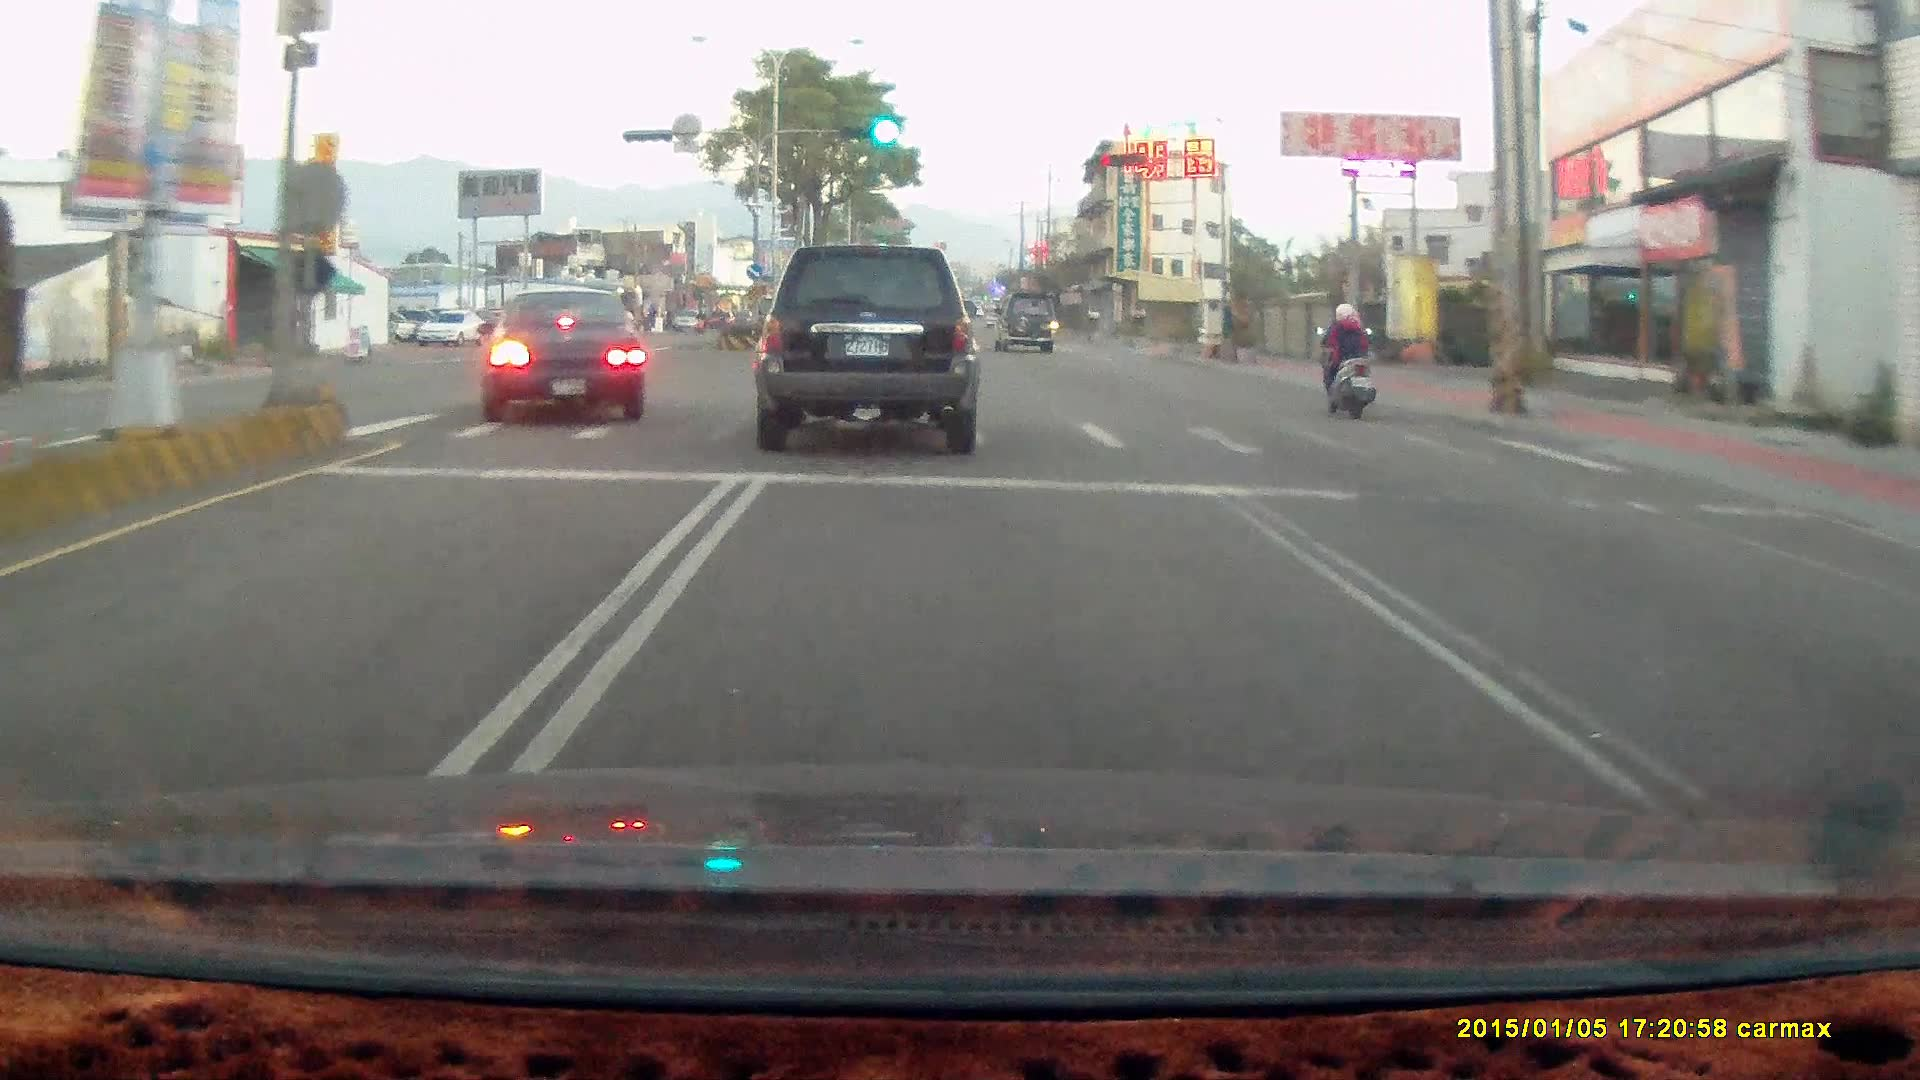rider: (1305, 291, 1389, 429), (1313, 297, 1376, 417)
vehicle: (757, 240, 983, 451), (752, 242, 979, 452), (475, 284, 647, 423), (474, 288, 645, 421), (993, 292, 1059, 359), (991, 279, 1056, 342), (415, 309, 488, 346)
